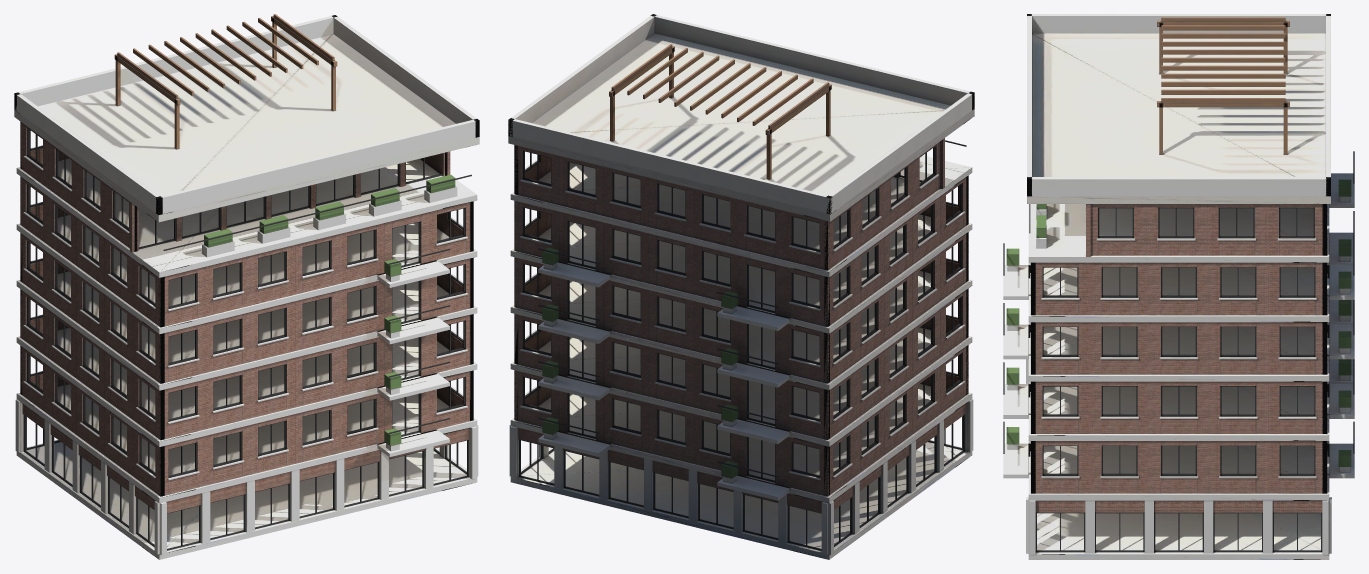
The model's file is fachada.glb.
The picture shows the model from 3 angles, left to right: view 1: azimuth 30°, elevation 25°; view 2: azimuth 150°, elevation 25°; view 3: azimuth 270°, elevation 25°; orthographic projection. The views are drawn at different scales.
Visible parts, largest first — view 1: cubierta, piso-5-fachada, piso-3-fachada, piso-4-fachada, piso-2-fachada, piso-6-losa, piso-1-losa, piso-1-fachada, piso-6-fachada, piso-5-losa, piso-3-losa, piso-2-losa (+1 smaller); view 2: cubierta, piso-5-fachada, piso-2-fachada, piso-4-fachada, piso-3-fachada, piso-6-fachada, piso-1-losa, piso-1-fachada, piso-6-losa, piso-5-losa, piso-2-losa, piso-4-losa (+1 smaller); view 3: cubierta, piso-5-fachada, piso-4-fachada, piso-2-fachada, piso-3-fachada, piso-1-losa, piso-6-fachada, piso-6-losa, piso-1-fachada, piso-5-losa, piso-2-losa, piso-4-losa (+1 smaller).
Boxes of the visible parts, <box> form: cubierta: <box>14,14,479,222</box>; piso-5-fachada: <box>20,176,473,327</box>; piso-3-fachada: <box>20,289,473,439</box>; piso-4-fachada: <box>20,233,473,383</box>; piso-2-fachada: <box>20,345,473,496</box>; piso-6-losa: <box>16,158,477,277</box>; piso-1-losa: <box>16,440,477,559</box>; piso-1-fachada: <box>15,399,478,554</box>; piso-6-fachada: <box>20,121,471,257</box>; piso-5-losa: <box>16,215,477,334</box>; piso-3-losa: <box>16,327,477,446</box>; piso-2-losa: <box>16,384,477,503</box>; cubierta: <box>508,14,974,221</box>; piso-5-fachada: <box>514,175,968,331</box>; piso-2-fachada: <box>514,345,968,500</box>; piso-4-fachada: <box>514,232,968,387</box>; piso-3-fachada: <box>514,288,968,444</box>; piso-6-fachada: <box>514,138,966,270</box>; piso-1-losa: <box>510,439,972,559</box>; piso-1-fachada: <box>509,399,973,554</box>; piso-6-losa: <box>510,155,972,277</box>; piso-5-losa: <box>510,214,972,333</box>; piso-2-losa: <box>510,384,972,503</box>; piso-4-losa: <box>510,271,972,390</box>; cubierta: <box>1027,14,1330,203</box>; piso-5-fachada: <box>1003,151,1354,315</box>; piso-4-fachada: <box>1003,211,1354,374</box>; piso-2-fachada: <box>1003,359,1354,493</box>; piso-3-fachada: <box>1003,300,1354,433</box>; piso-1-losa: <box>1028,513,1329,559</box>; piso-6-fachada: <box>1029,204,1329,256</box>; piso-6-losa: <box>1028,204,1329,262</box>; piso-1-fachada: <box>1026,359,1331,554</box>; piso-5-losa: <box>1028,262,1329,322</box>; piso-2-losa: <box>1028,441,1329,500</box>; piso-4-losa: <box>1028,322,1329,381</box>.
Size of the model in its own units: 18.47 by 21.91 by 16.6.
Materials: 13 (13 with a texture image).
